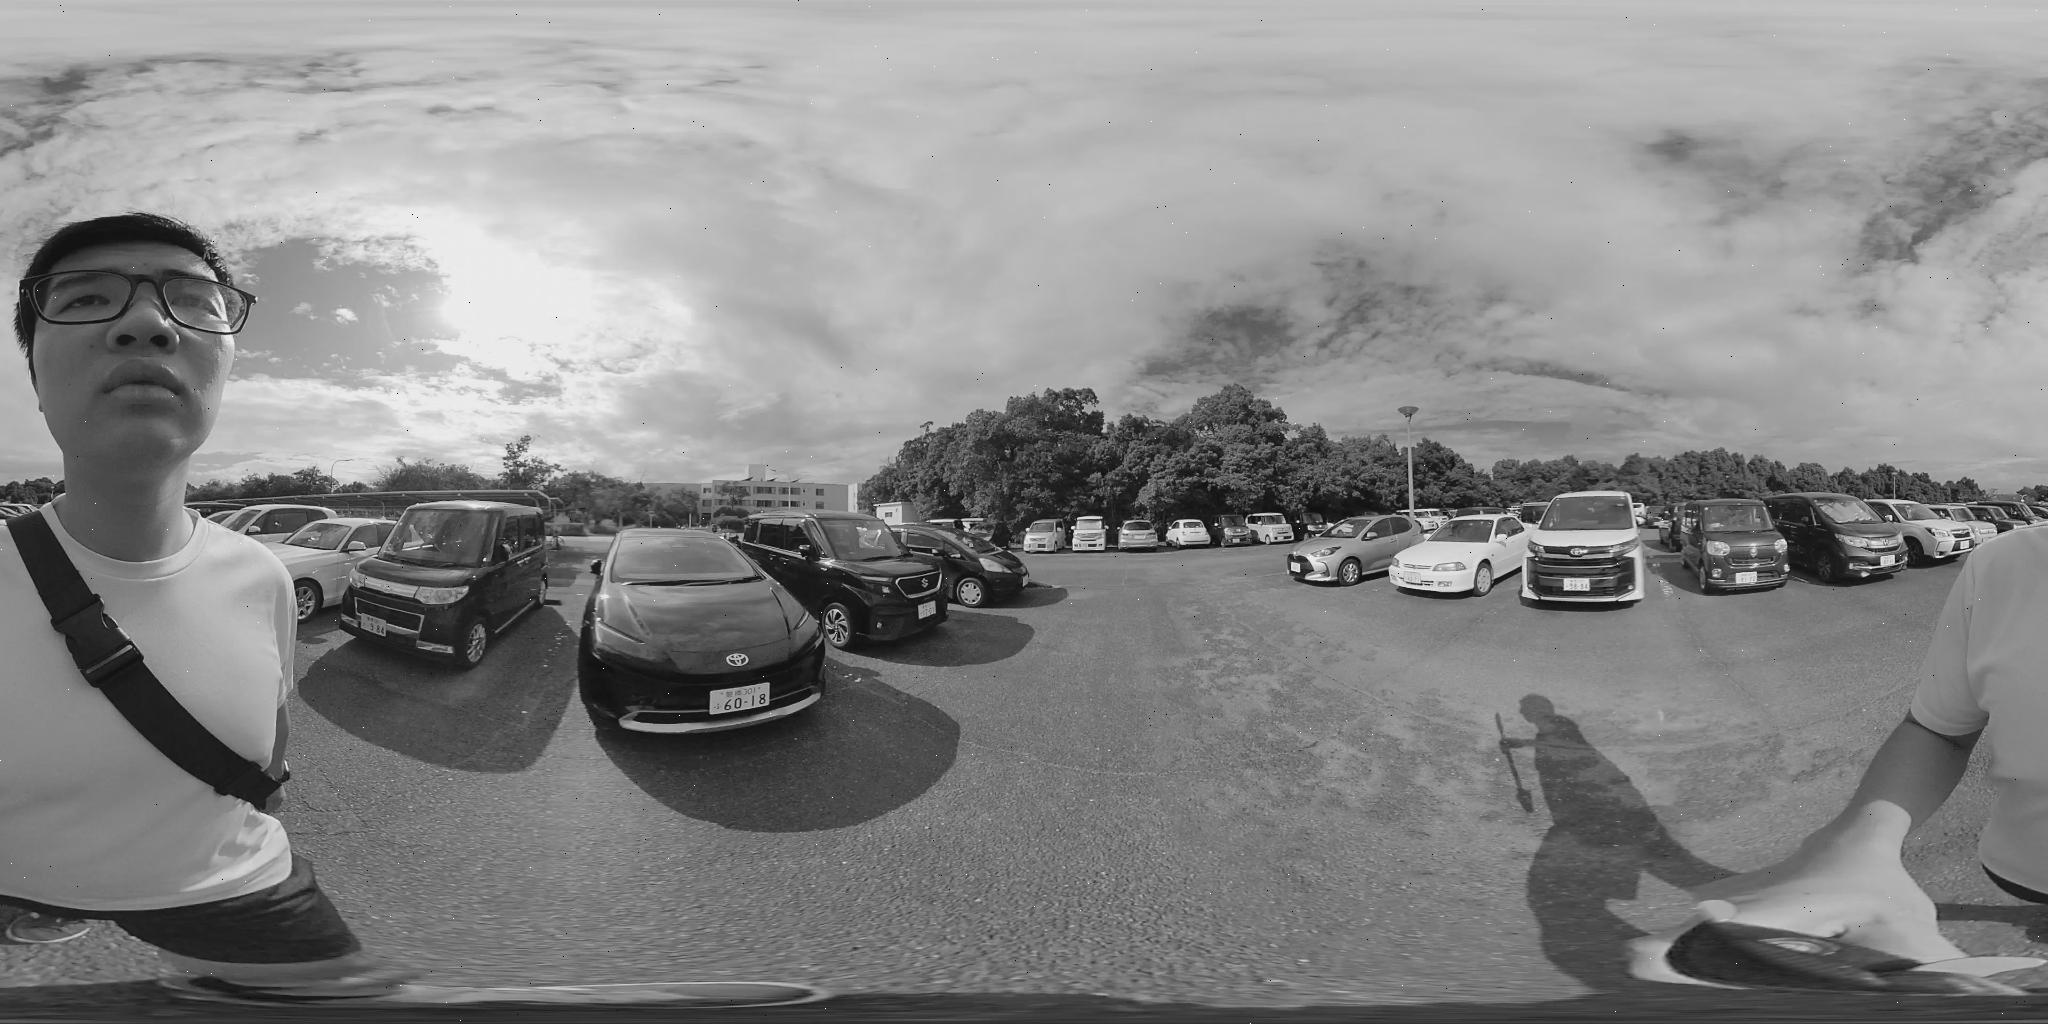car: (569, 525, 832, 737), (337, 499, 564, 667), (718, 513, 951, 649), (1767, 492, 1915, 585), (874, 524, 1034, 606), (1526, 495, 1643, 607), (1682, 498, 1797, 593), (1395, 519, 1531, 598), (1289, 516, 1437, 585), (1874, 500, 1988, 559), (196, 503, 338, 542), (1243, 515, 1309, 543)
